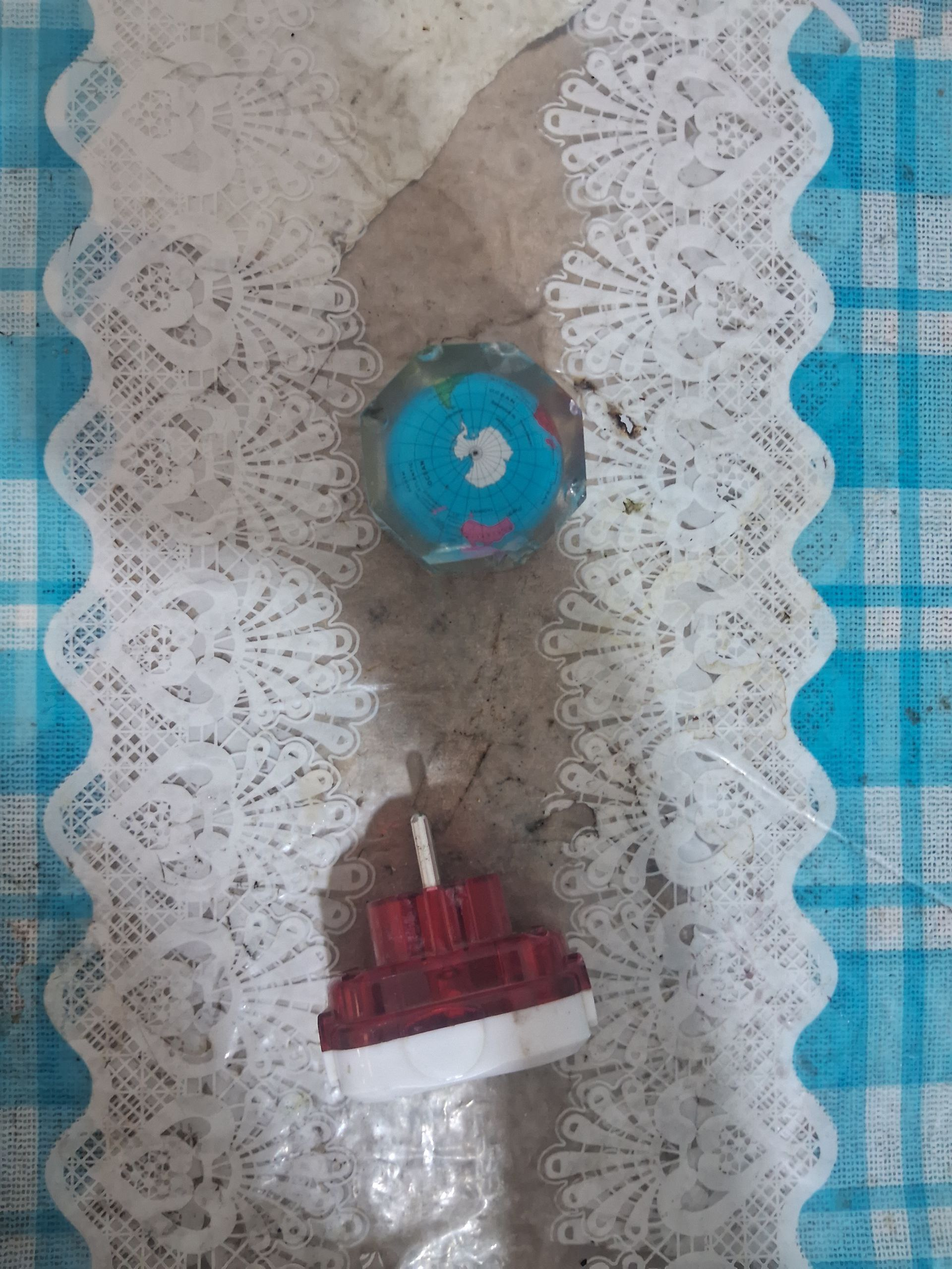Multi_adapter: (301, 803, 606, 1112)
world_globe: (350, 326, 597, 588)
